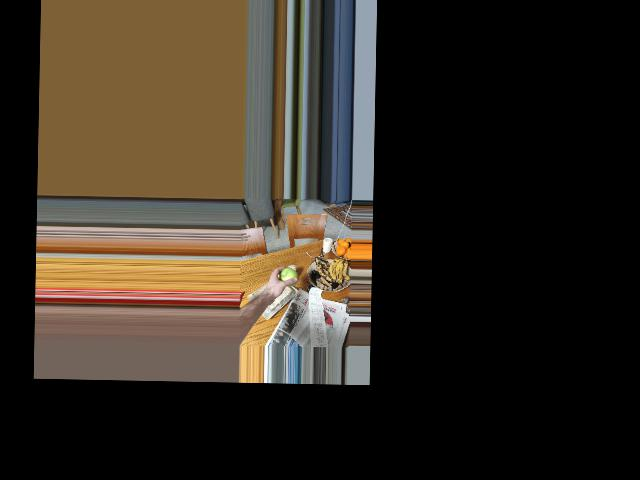apple: (275, 267, 298, 293)
